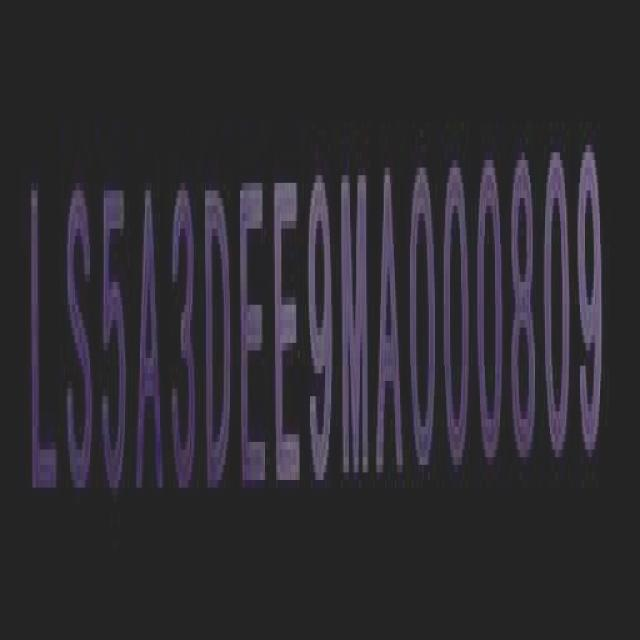0: (444, 154, 473, 472), (477, 152, 505, 468), (544, 145, 572, 459), (411, 157, 438, 477)
3: (172, 185, 202, 500)
5: (100, 180, 130, 501)
8: (511, 147, 539, 463)
9: (578, 147, 605, 462), (308, 163, 332, 482)
A: (379, 159, 407, 484), (137, 176, 164, 498)
D: (203, 180, 234, 497)
E: (238, 174, 268, 497), (274, 176, 302, 494)
L: (25, 184, 56, 506)
M: (340, 162, 374, 486)
S: (63, 185, 93, 502)
